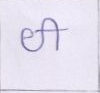i_matra: (44, 18, 64, 50)
